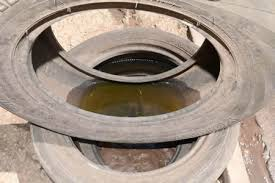tire: (1, 1, 274, 145), (30, 27, 242, 182)
